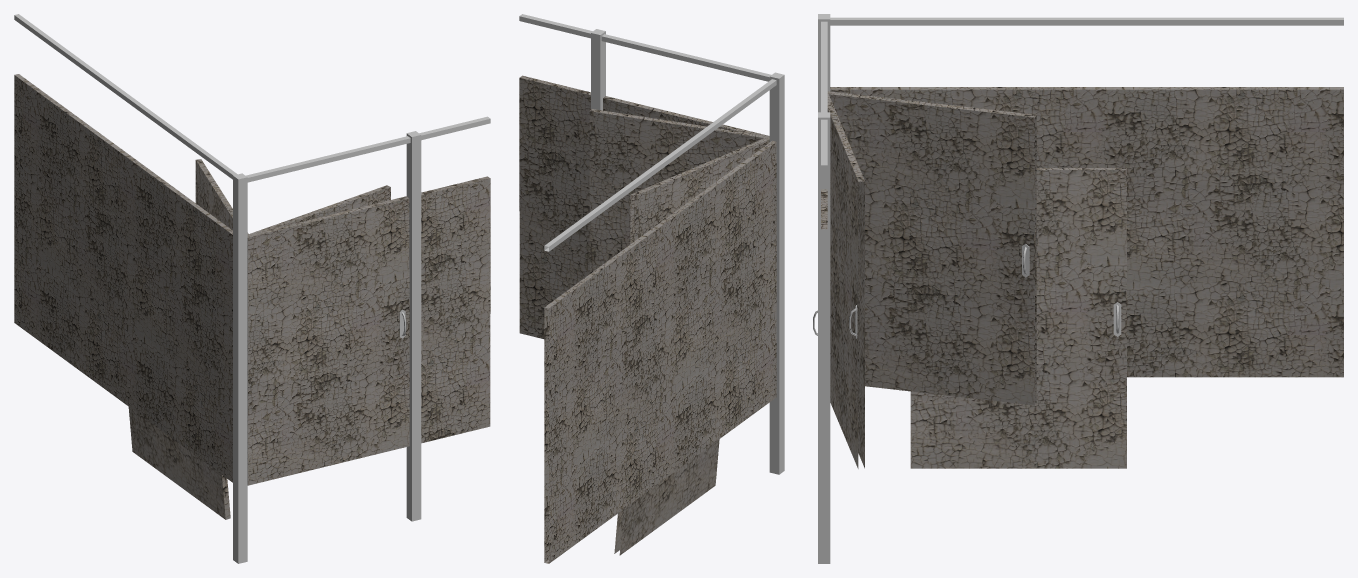
File: BathStalls.FBX
The picture shows the model from 3 angles, left to right: view 1: azimuth 30°, elevation 25°; view 2: azimuth 150°, elevation 25°; view 3: azimuth 270°, elevation 25°; orthographic projection. The views are drawn at different scales.
Visible parts, largest first — view 1: BathStall_E, BathStall_A, BathStall_B, BathStall_D; view 2: BathStall_E, BathStall_B, BathStall_D, BathStall_A; view 3: BathStall_E, BathStall_D, BathStall_B.
Part boxes in pixels (x1=…): BathStall_E: x1=14, y1=14, x2=490, y2=563; BathStall_A: x1=248, y1=196, x2=409, y2=485; BathStall_B: x1=247, y1=185, x2=390, y2=485; BathStall_D: x1=195, y1=159, x2=249, y2=235; BathStall_E: x1=519, y1=14, x2=784, y2=563; BathStall_B: x1=589, y1=109, x2=769, y2=273; BathStall_D: x1=630, y1=138, x2=769, y2=243; BathStall_A: x1=603, y1=96, x2=769, y2=138; BathStall_E: x1=818, y1=14, x2=1343, y2=563; BathStall_D: x1=827, y1=91, x2=1036, y2=405; BathStall_B: x1=827, y1=94, x2=864, y2=468.
Size of what is drawn, in the model's own units: 179 by 260 by 280.
